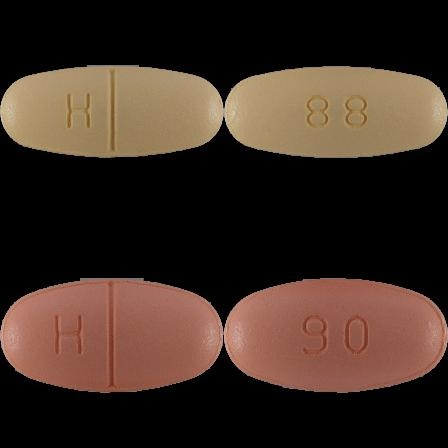0615-7977: (0, 0, 224, 224)
